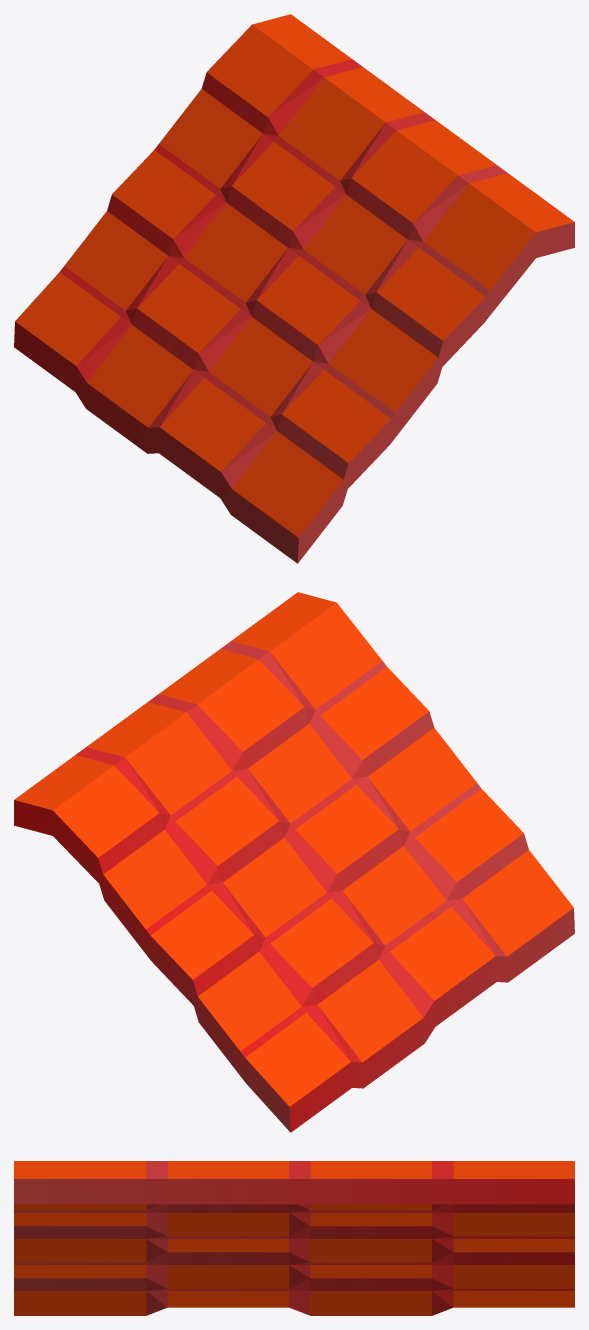
The model's file is Roof_Straight_02.fbx.
3 renders of one model, top to bottom at view 1: azimuth 30°, elevation 25°; view 2: azimuth 150°, elevation 25°; view 3: azimuth 270°, elevation 25°, orthographic.
Visible parts, largest first — view 1: Roof_Straight_02; view 2: Roof_Straight_02; view 3: Roof_Straight_02.
Part boxes in pixels (box(x1,y1,x2,y2)): Roof_Straight_02: box(14, 14, 574, 563); Roof_Straight_02: box(14, 592, 574, 1132); Roof_Straight_02: box(14, 1161, 574, 1315).
Bounding box in the file's own units: 2.82 × 2.66 × 5.
